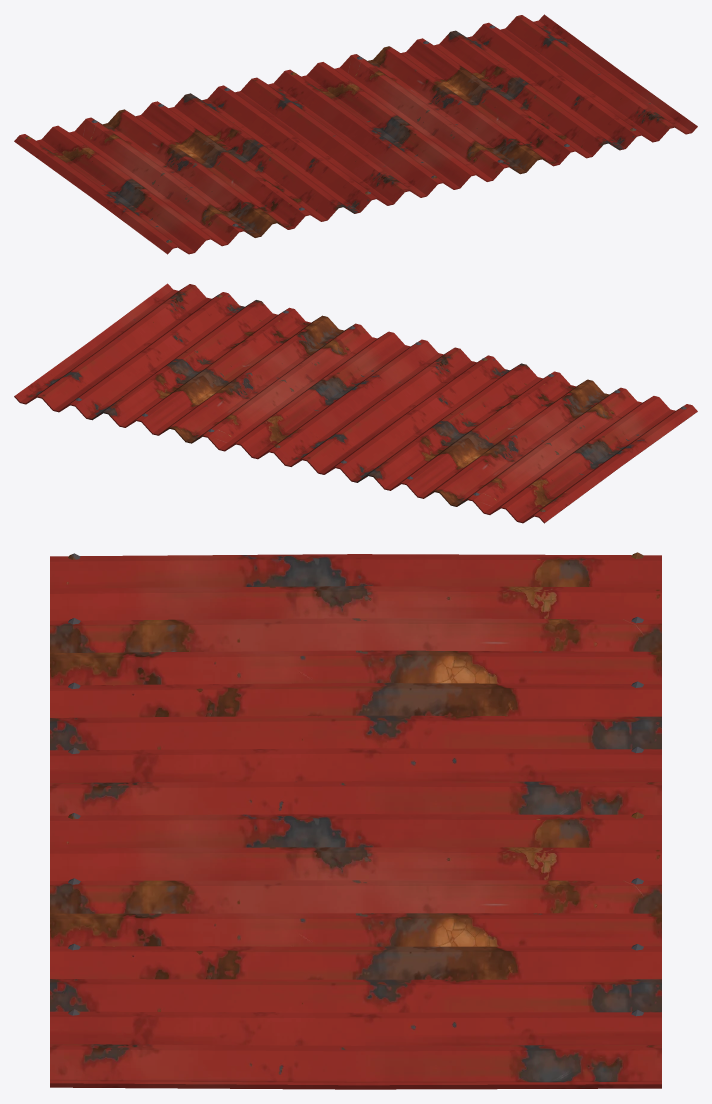
File: Corrugated_Sheet_B.glb
3 views of the same model, one above another, from view 1: azimuth 30°, elevation 25°; view 2: azimuth 150°, elevation 25°; view 3: azimuth 270°, elevation 25° (orthographic). The views are drawn at different scales.
Visible parts, largest first — view 1: Corrugated_Sheet_B; view 2: Corrugated_Sheet_B; view 3: Corrugated_Sheet_B.
Part boxes in pixels (x1,y1,x2,y2): Corrugated_Sheet_B: (14,14,697,254); Corrugated_Sheet_B: (14,283,697,523); Corrugated_Sheet_B: (50,552,661,1089).
Size of the model in its own units: 2 by 0.0599 by 1.
Materials: 2 (2 with a texture image).
